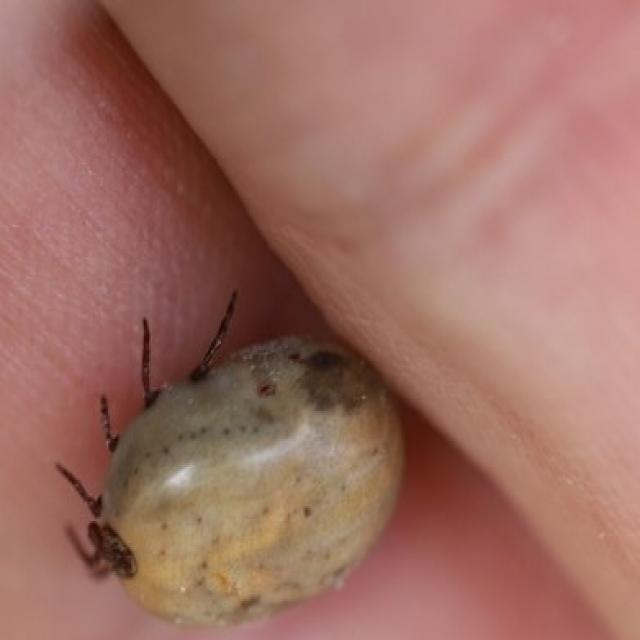Dermacentor Reticulatus-F-Fed: (56, 288, 408, 627)
